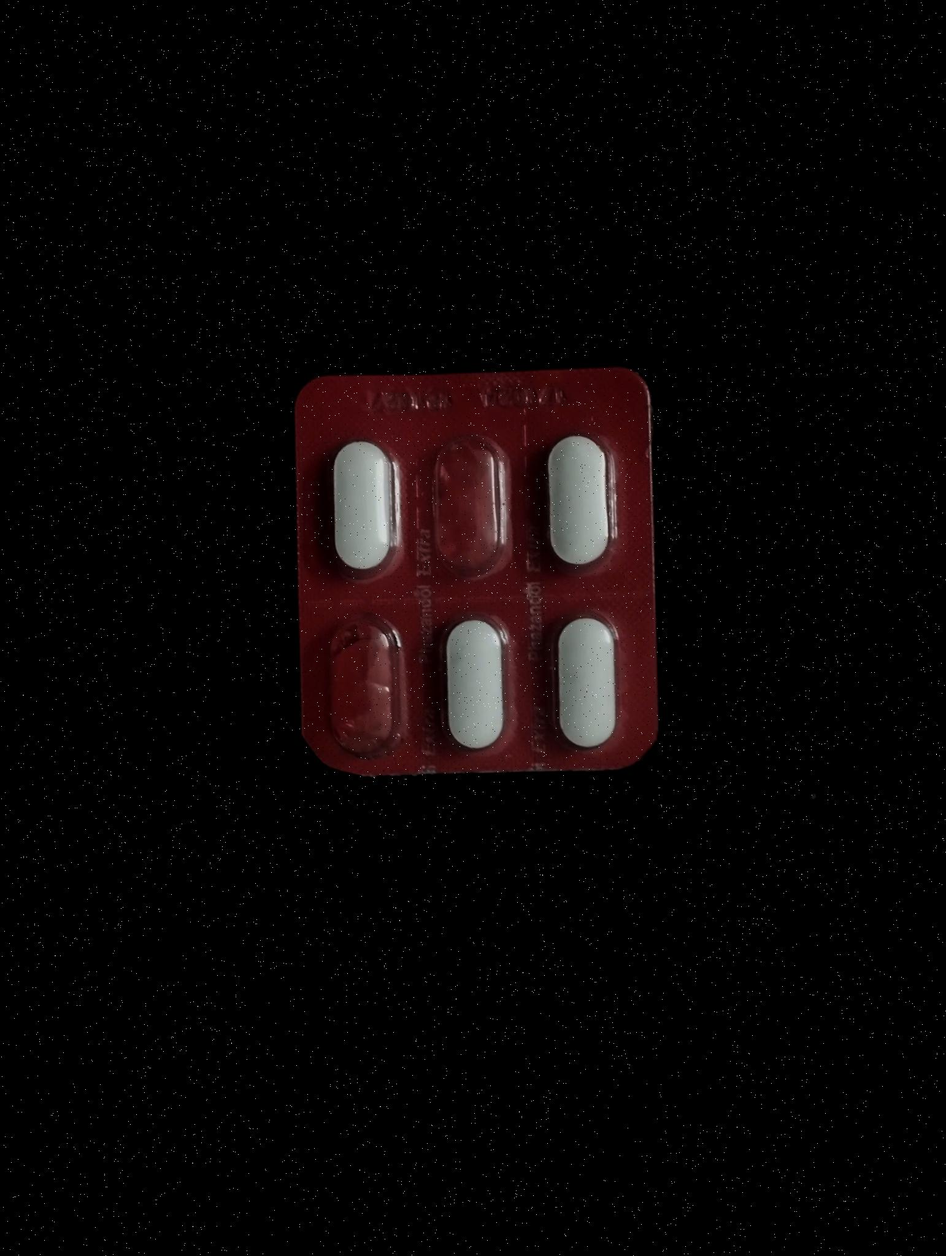Empty: (428, 425, 519, 589), (321, 613, 406, 768)
Full: (539, 599, 631, 750), (429, 609, 516, 760), (534, 430, 622, 572), (321, 431, 406, 575)
